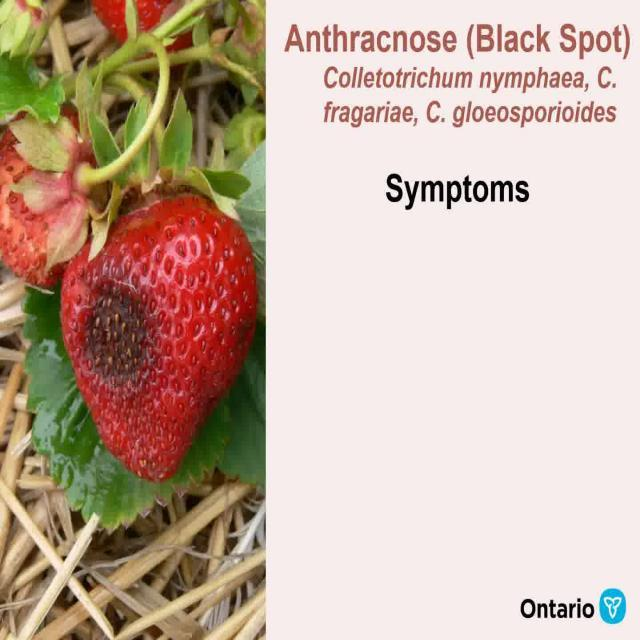Mancha negra Antracnosis: (56, 193, 258, 488)
